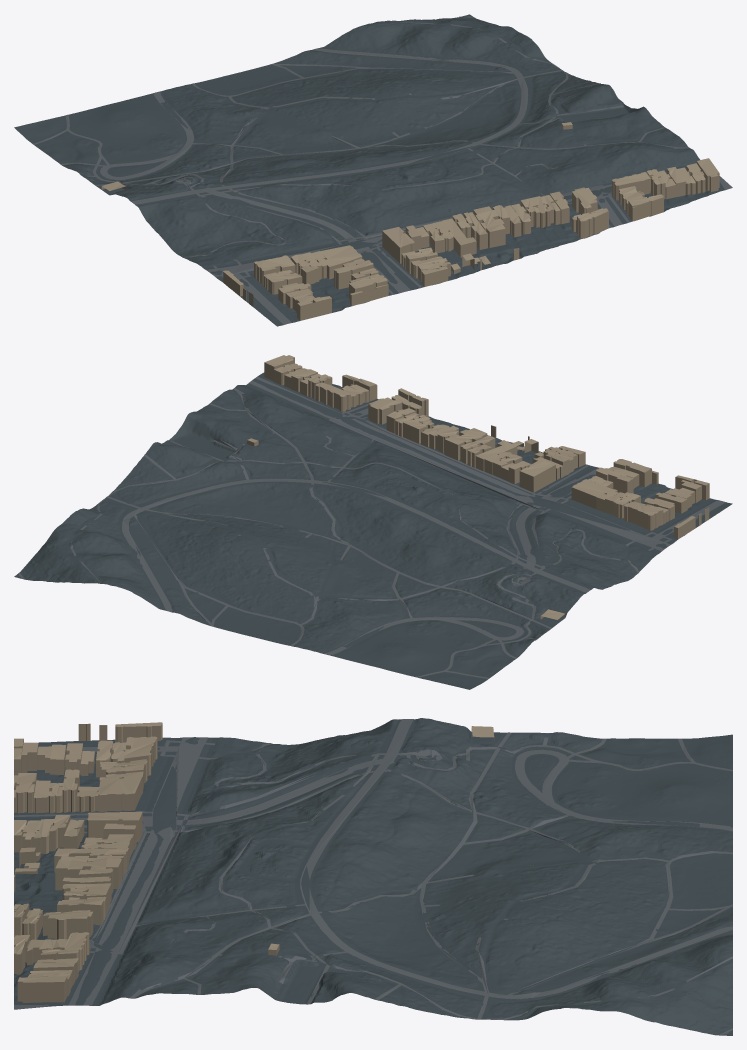
The model's file is epsg26910-1426-10887.lod0.glb.
3 views of the same model, one above another, from view 1: azimuth 30°, elevation 25°; view 2: azimuth 150°, elevation 25°; view 3: azimuth 270°, elevation 25° (orthographic). The views are drawn at different scales.
Visible parts, largest first — view 1: epsg26910-1426-10887-lod0; view 2: epsg26910-1426-10887-lod0; view 3: epsg26910-1426-10887-lod0.
Boxes of the visible parts, bbox=[...] form: epsg26910-1426-10887-lod0: bbox=[14, 14, 732, 326]; epsg26910-1426-10887-lod0: bbox=[14, 355, 732, 689]; epsg26910-1426-10887-lod0: bbox=[14, 718, 732, 1035].
Size of the model in its own units: 384 by 37.17 by 384.
